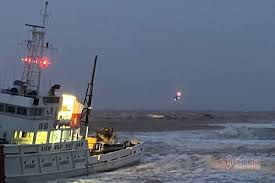tau_dansu: (5, 25, 142, 174), (165, 90, 190, 104)
